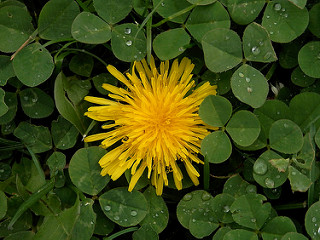clover: (66, 144, 151, 240), (200, 21, 279, 110), (1, 1, 79, 89), (72, 1, 147, 64), (198, 93, 262, 164)
dandelion yellow: (83, 55, 221, 195)
